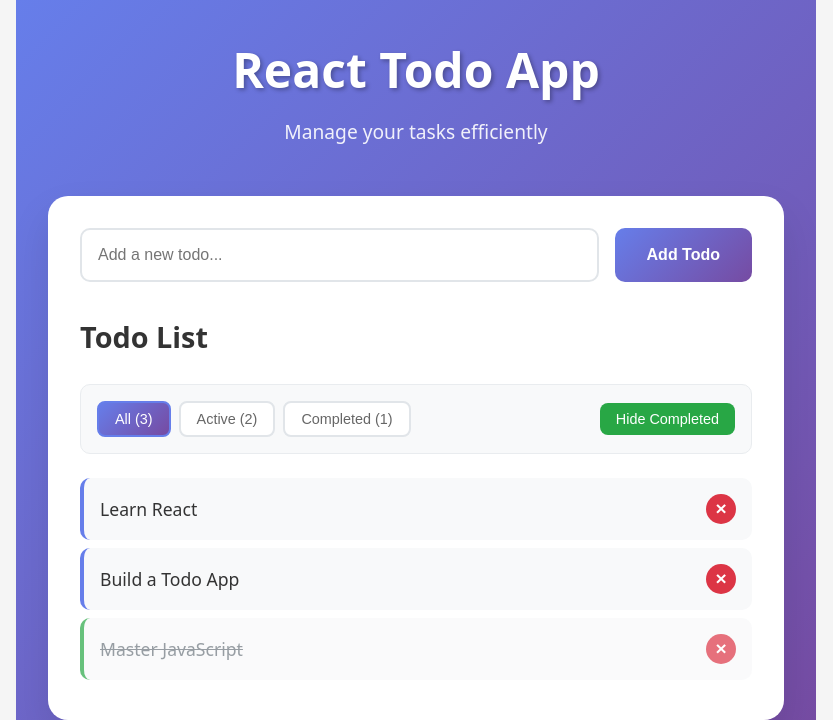
Test: TodoList Component › Integration Tests › complete workflow: add, toggle, and delete todos
In the field with placeholder "Add a new todo...": [339, 254] box 80,228 -> 598,282, type "Integration test todo"
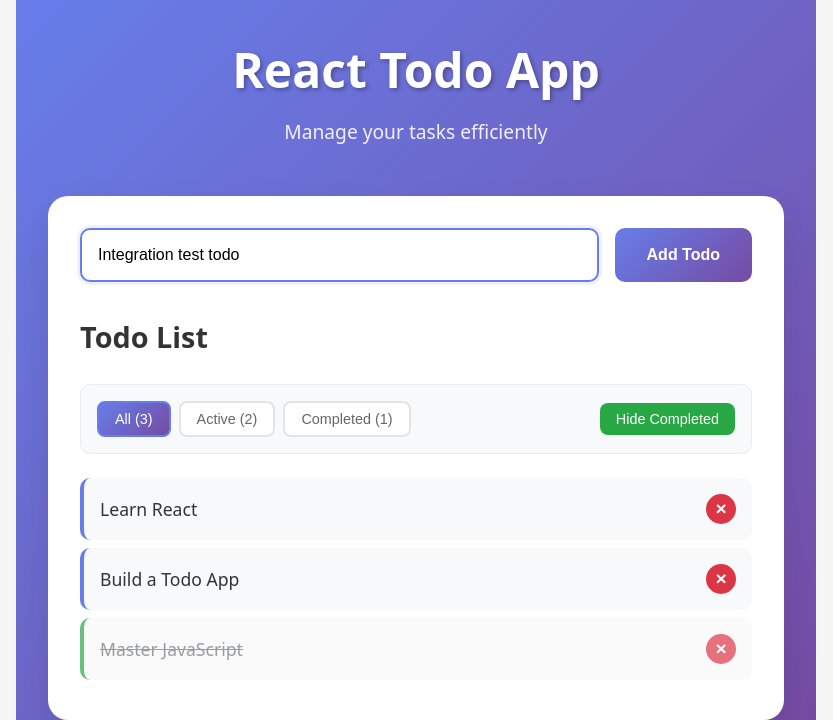
Click the button "Add Todo": [683, 254] box 614,228 -> 752,282
(page scrolled)
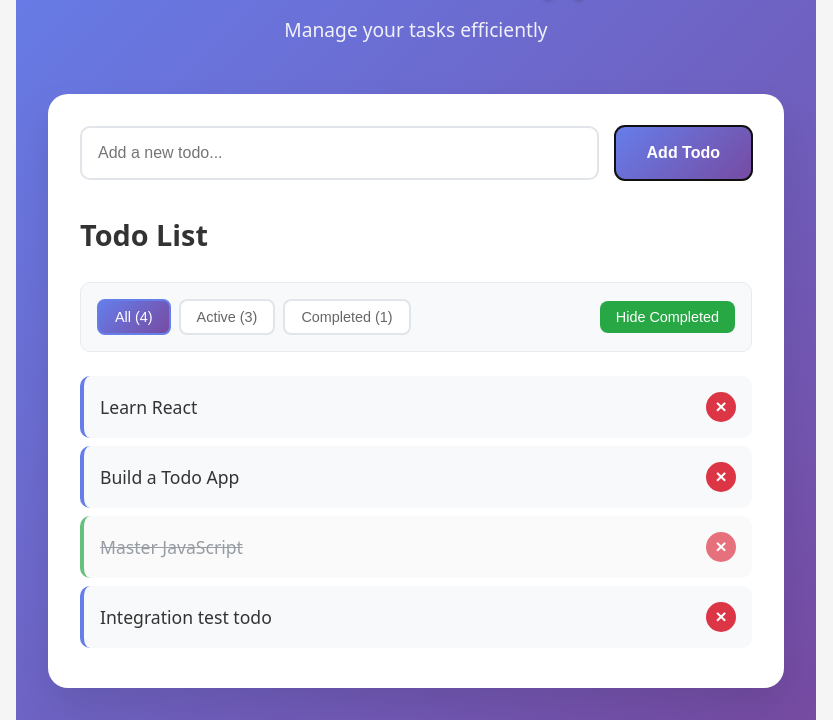
Expected: the text "Integration test todo" is shown
Click the text "Integration test todo": [186, 616] box 100,604 -> 272,628
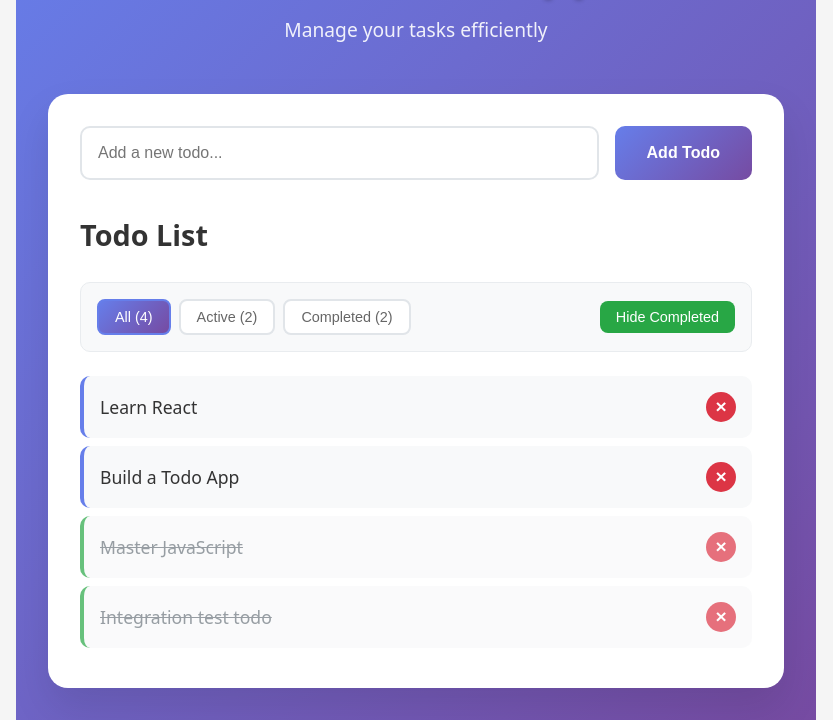
Expected: the list item "Integration test todo" has class "completed", 80,586 -> 752,648
Click the button named "delete todo": [721, 617] box 706,602 -> 736,632
(page scrolled)
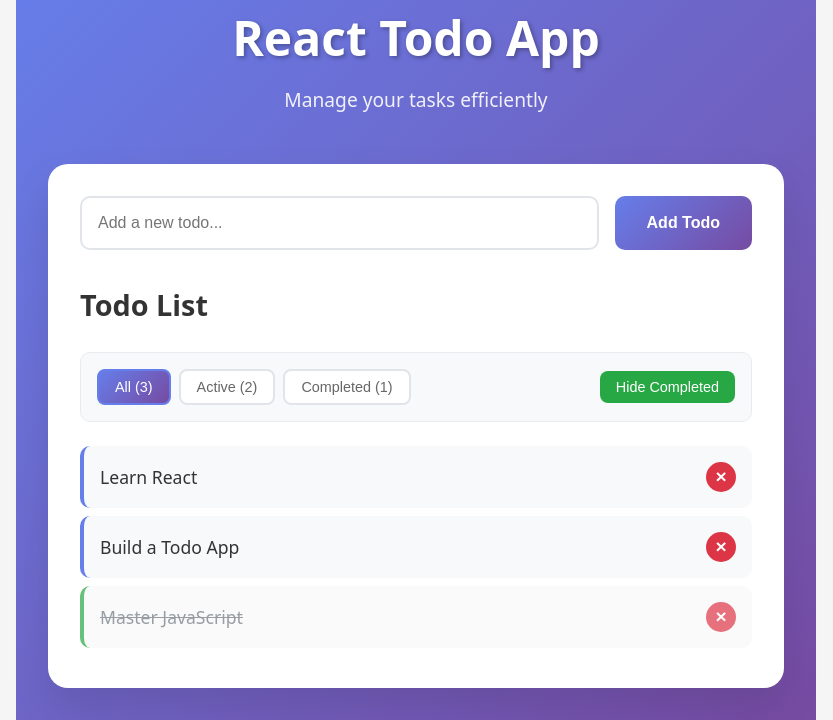
Expected: the text "Integration test todo" is gone
